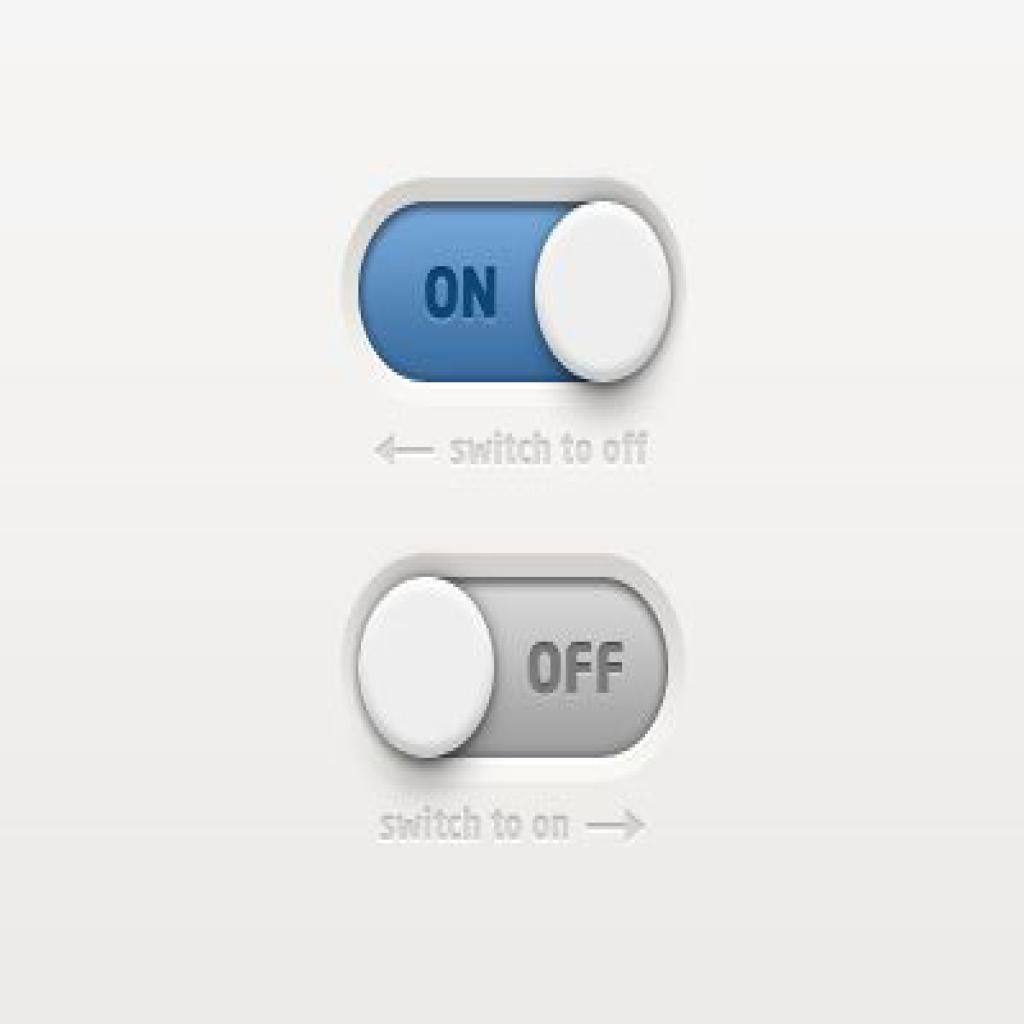switch: (331, 176, 692, 390), (344, 552, 696, 764)
